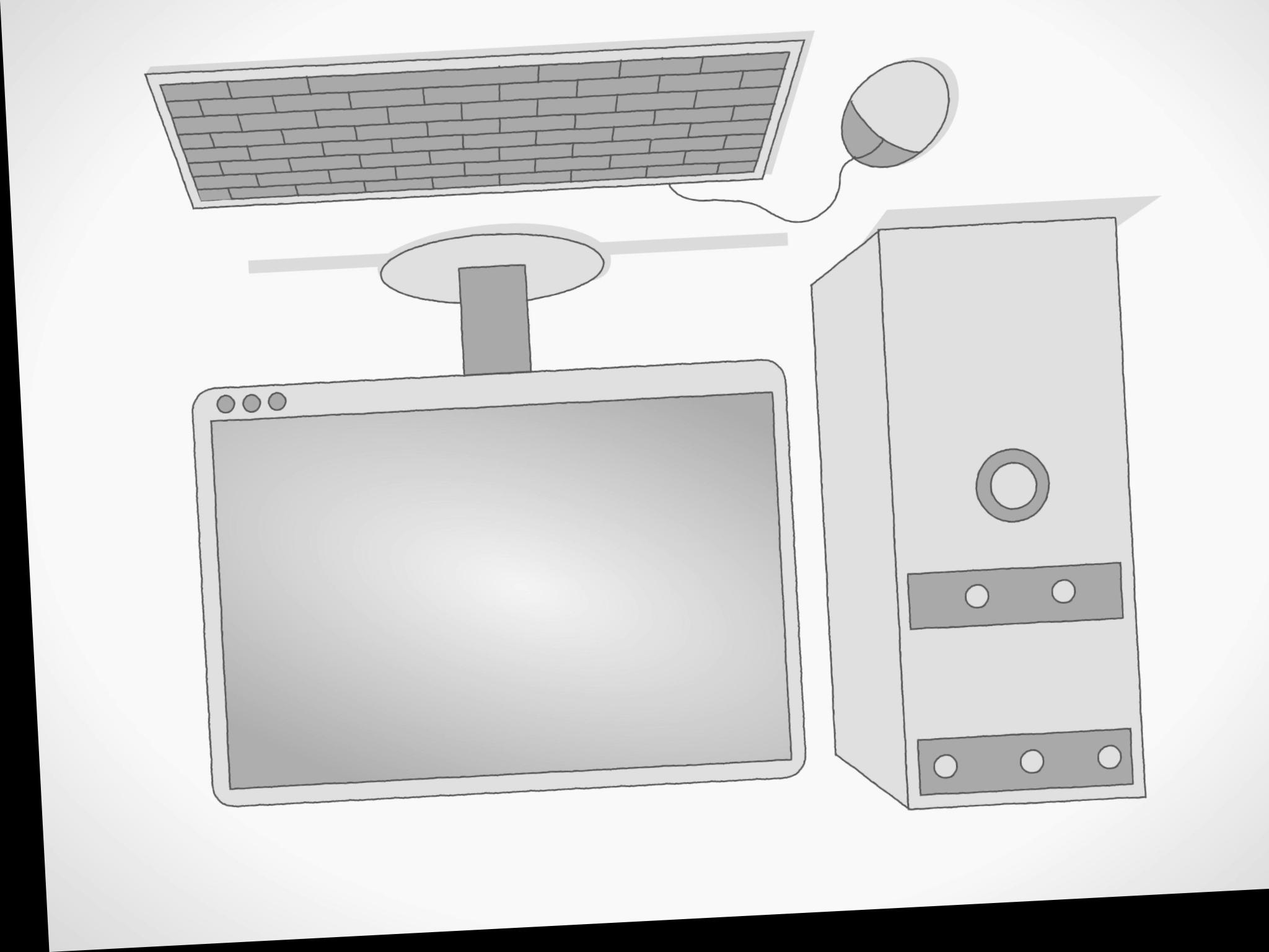keyboard: (153, 44, 809, 215)
monitor: (209, 371, 820, 812)
mouse: (840, 62, 957, 172)
pc: (810, 220, 1151, 816)
